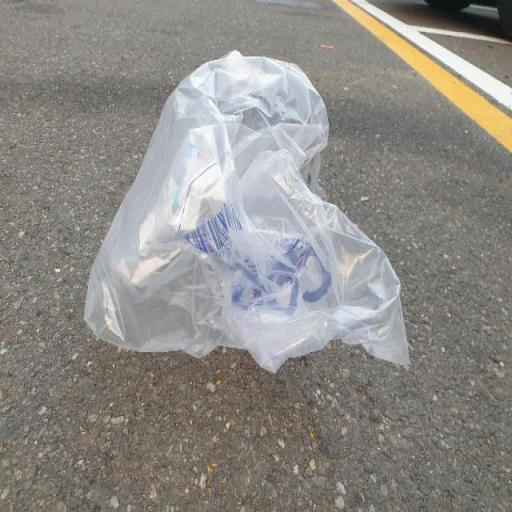plastic-bag: (81, 45, 415, 372)
